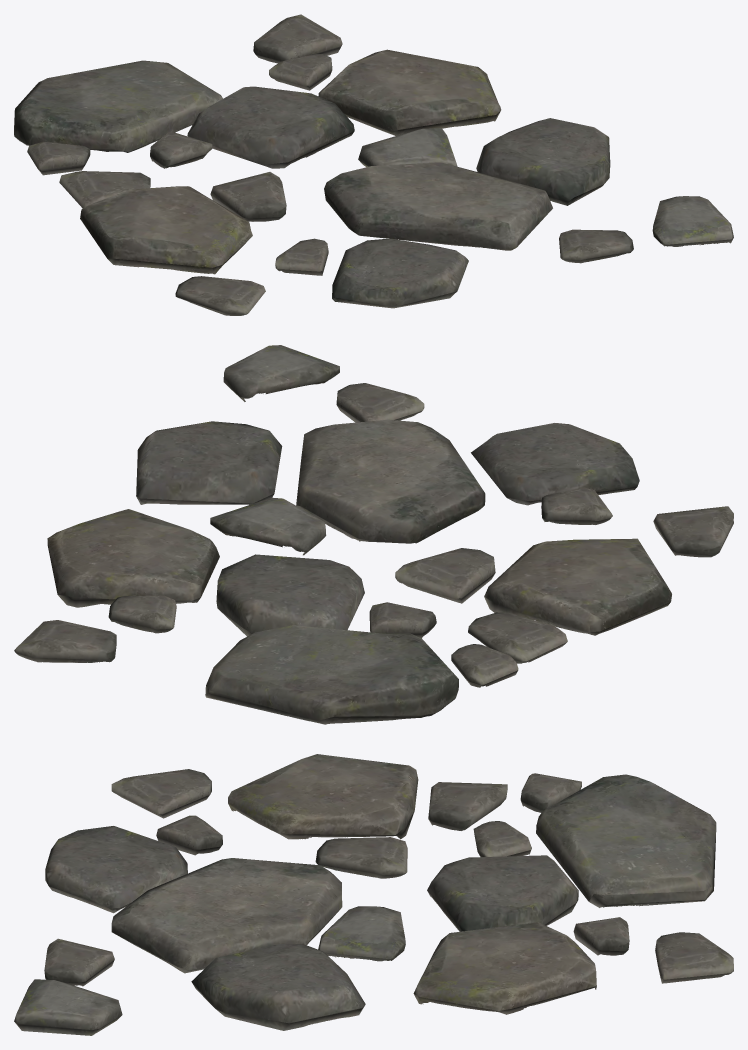
3 views of the same model, one above another, from view 1: azimuth 30°, elevation 25°; view 2: azimuth 150°, elevation 25°; view 3: azimuth 270°, elevation 25° (orthographic). The views are drawn at different scales.
Parts seen in each view (by area): view 1: SM_DeathTemple_Cobble_Road_01v1_LOD0; view 2: SM_DeathTemple_Cobble_Road_01v1_LOD0; view 3: SM_DeathTemple_Cobble_Road_01v1_LOD0.
Boxes of the visible parts, x1,y1,x2,y2 form: SM_DeathTemple_Cobble_Road_01v1_LOD0: [14, 14, 733, 315]; SM_DeathTemple_Cobble_Road_01v1_LOD0: [14, 345, 733, 724]; SM_DeathTemple_Cobble_Road_01v1_LOD0: [14, 754, 733, 1035].
Bounding box in the file's own units: 1.86 × 0.1284 × 2.15.
Materials: 1 (1 with a texture image).
